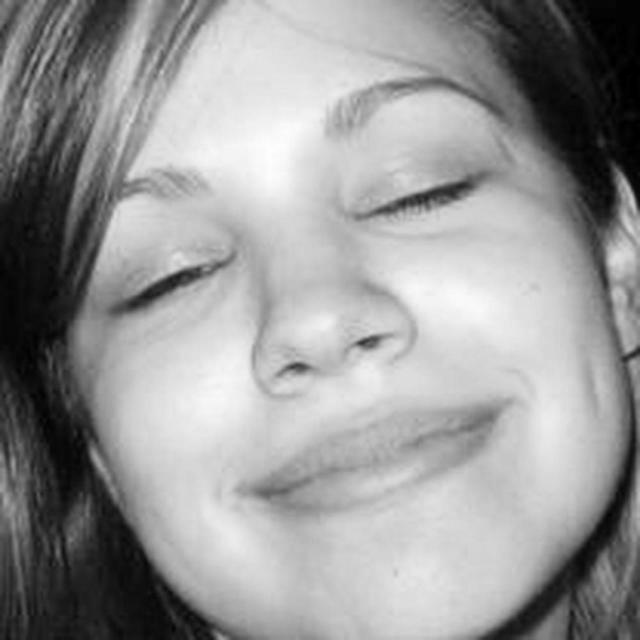real: (65, 0, 640, 640), (91, 108, 511, 326)
